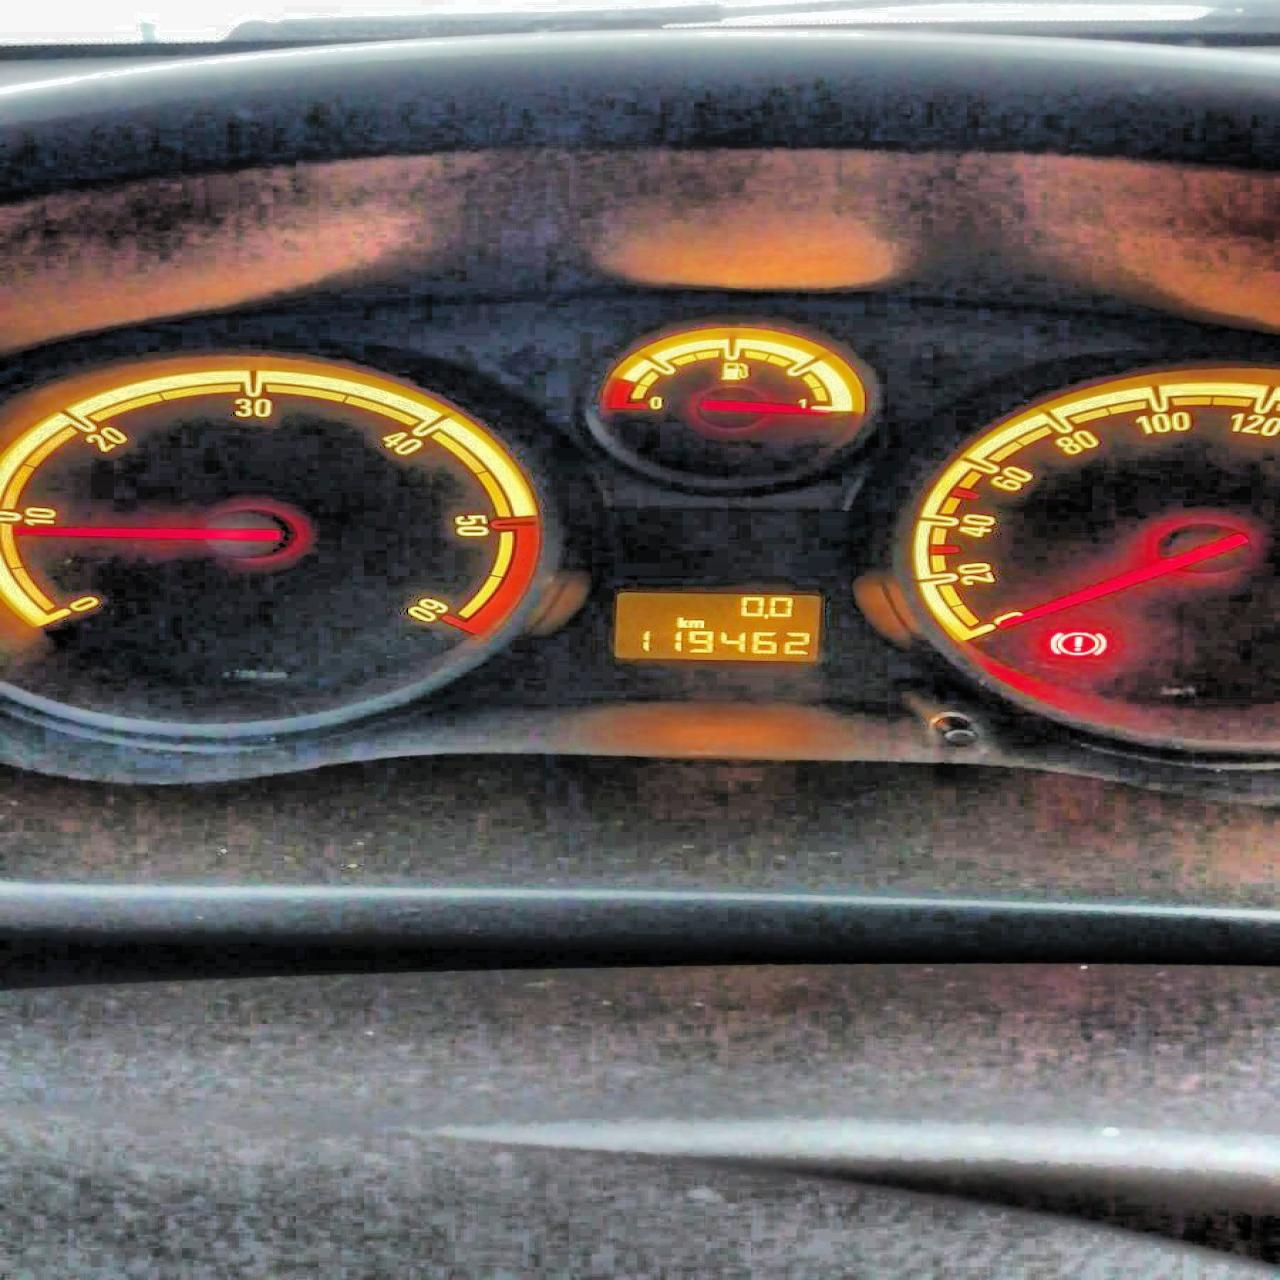-: (761, 613, 769, 619)
0: (738, 595, 764, 617), (768, 595, 792, 617)
1: (640, 629, 651, 652), (672, 631, 682, 652)
2: (782, 632, 811, 654)
4: (719, 632, 747, 653)
6: (749, 631, 776, 654)
9: (686, 629, 713, 653)
X: (687, 619, 704, 628), (674, 617, 687, 628)
odometer: (611, 591, 824, 663)
